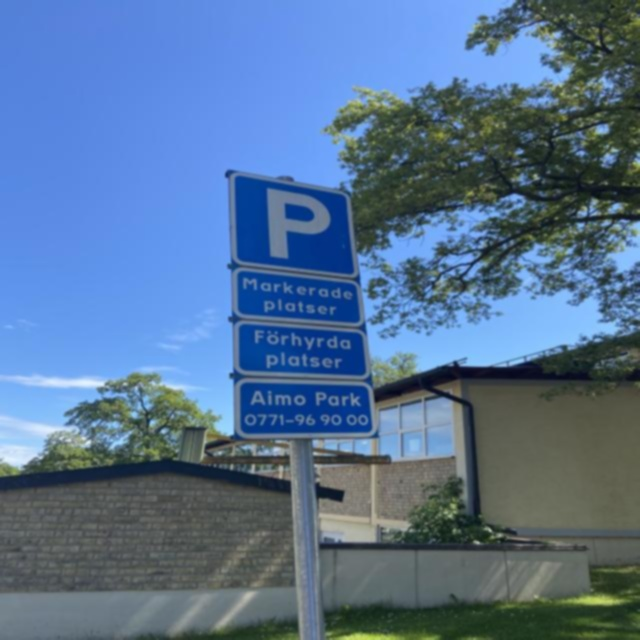P-skylt: (232, 172, 362, 281)
